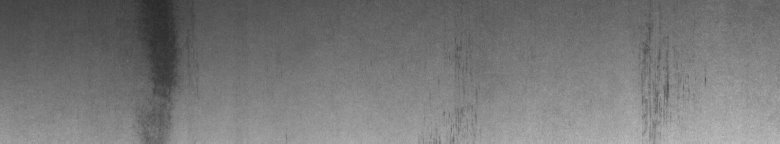ka: (642, 24, 707, 112)
